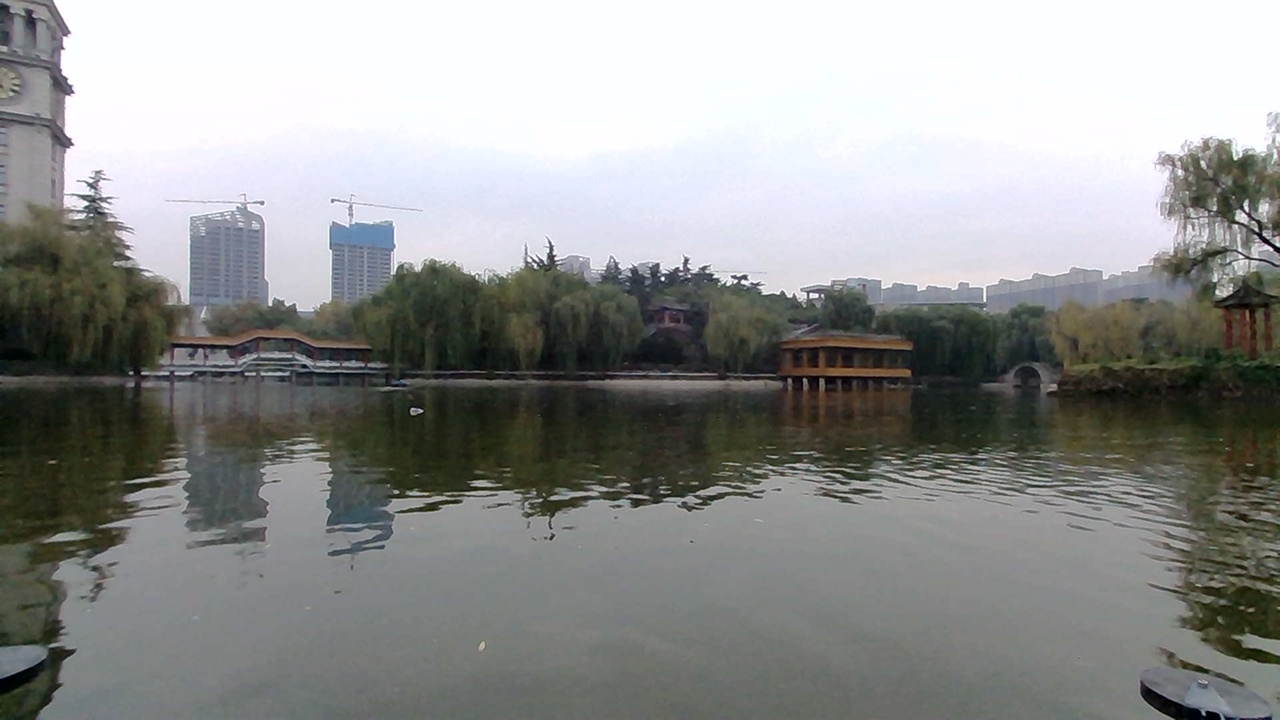bottle: (399, 397, 444, 421)
